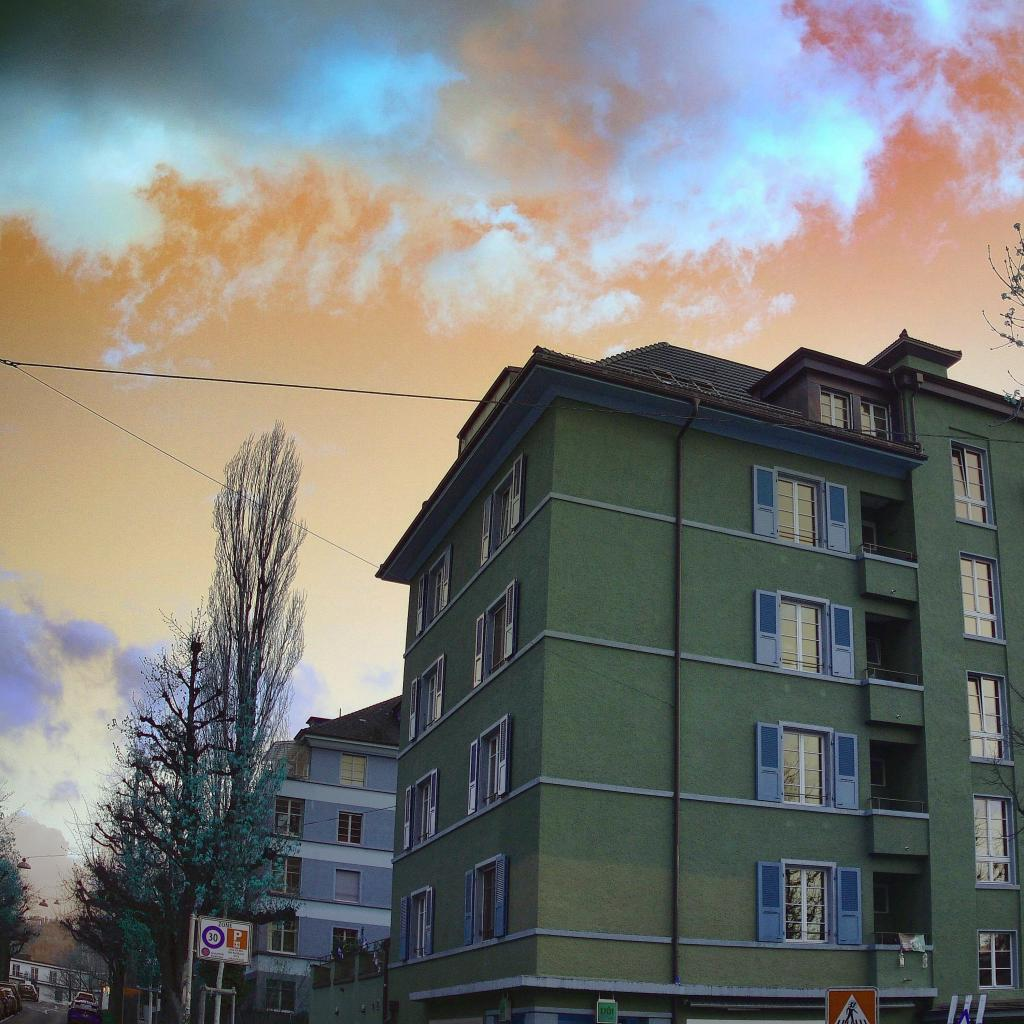balcony-fence: (309, 937, 390, 989), (860, 543, 915, 562), (864, 667, 921, 685), (867, 797, 926, 813), (870, 932, 930, 944)
car: (67, 992, 103, 1024), (0, 982, 23, 1021), (17, 983, 39, 1002)
facade: (308, 327, 1024, 1024), (243, 695, 400, 1024), (10, 958, 110, 1011)
non-building-infrastructure: (923, 1001, 1024, 1024)
shop: (409, 975, 938, 1024)
traffic-infrastructure: (180, 911, 254, 1024), (824, 986, 880, 1024)
vegetation: (0, 417, 314, 1024), (979, 220, 1024, 435), (979, 664, 1024, 859)
window: (973, 793, 1017, 887), (966, 670, 1011, 761), (960, 551, 1005, 641), (949, 438, 995, 525), (784, 865, 828, 943), (783, 730, 826, 807), (781, 599, 823, 674), (778, 476, 819, 547), (976, 929, 1020, 991), (860, 395, 892, 440), (819, 385, 851, 429), (274, 795, 306, 838), (271, 854, 303, 895), (267, 916, 300, 955), (481, 866, 496, 942), (264, 979, 296, 1013), (491, 603, 506, 675), (333, 868, 362, 904), (487, 732, 500, 806), (337, 810, 364, 845), (340, 753, 367, 787), (499, 483, 512, 546), (332, 928, 359, 958), (426, 672, 437, 730), (416, 895, 426, 958), (873, 878, 889, 913), (421, 782, 430, 843), (867, 634, 883, 666), (861, 521, 878, 551), (434, 566, 443, 618), (870, 758, 886, 786), (54, 991, 63, 1003), (12, 964, 20, 977), (30, 967, 38, 980), (49, 971, 57, 983)
